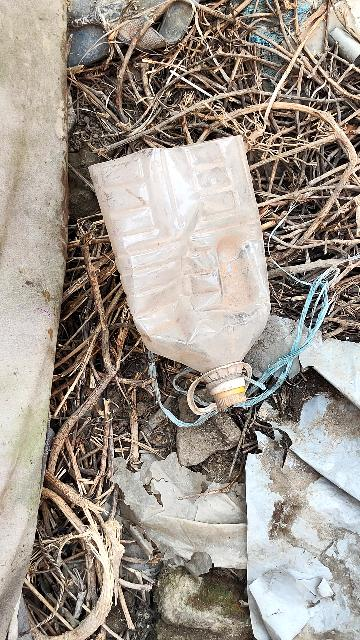bottle: (72, 133, 295, 412)
